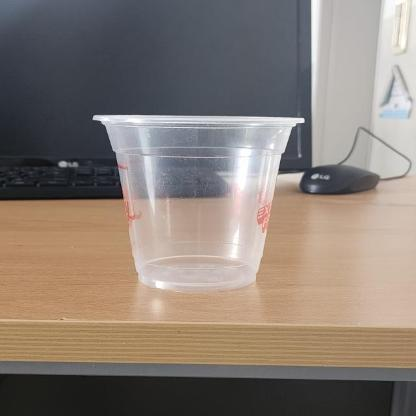Plastic Cup: (90, 112, 306, 292)
